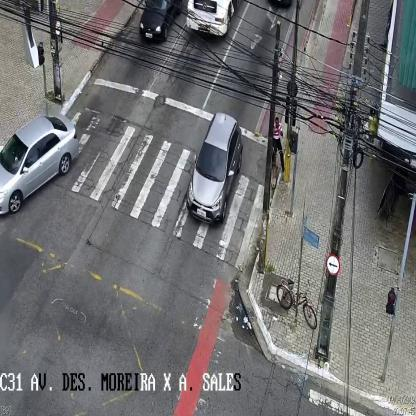bicycle: (276, 276, 316, 331), (273, 116, 286, 190)
car: (0, 112, 79, 217), (186, 112, 242, 226), (141, 0, 179, 46)
truck: (187, 0, 235, 34)
